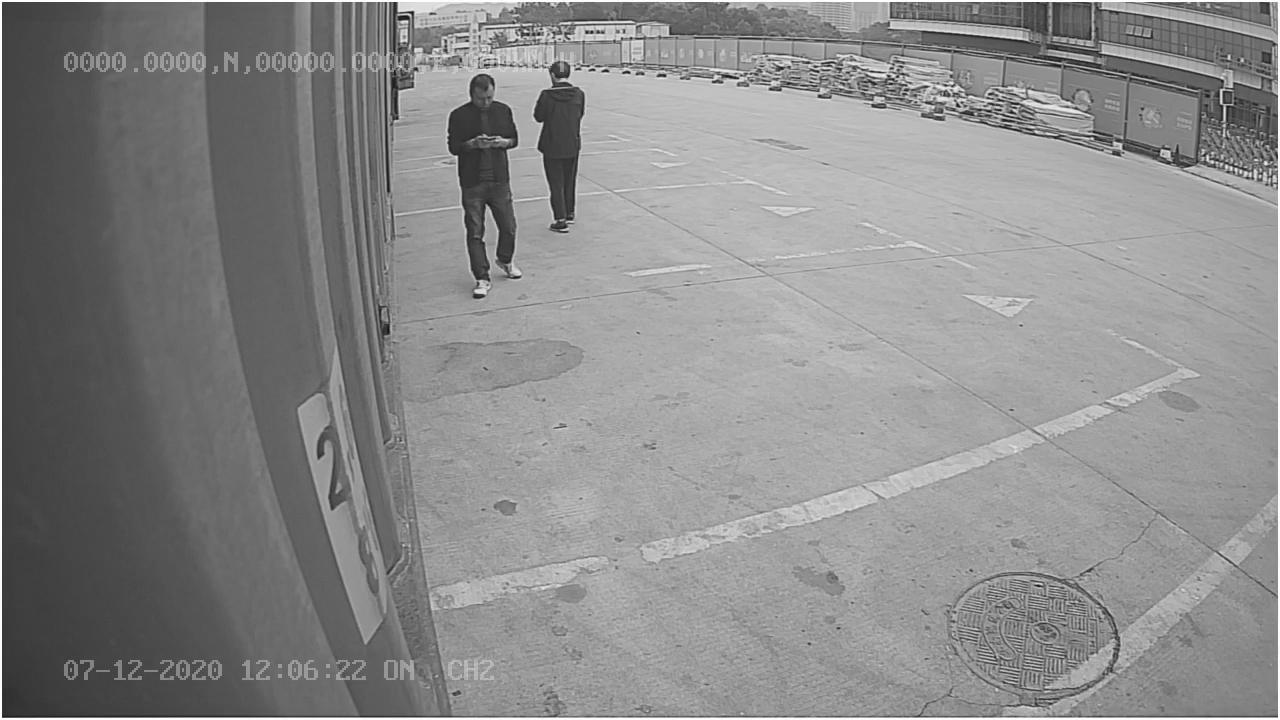person: (441, 67, 528, 297)
